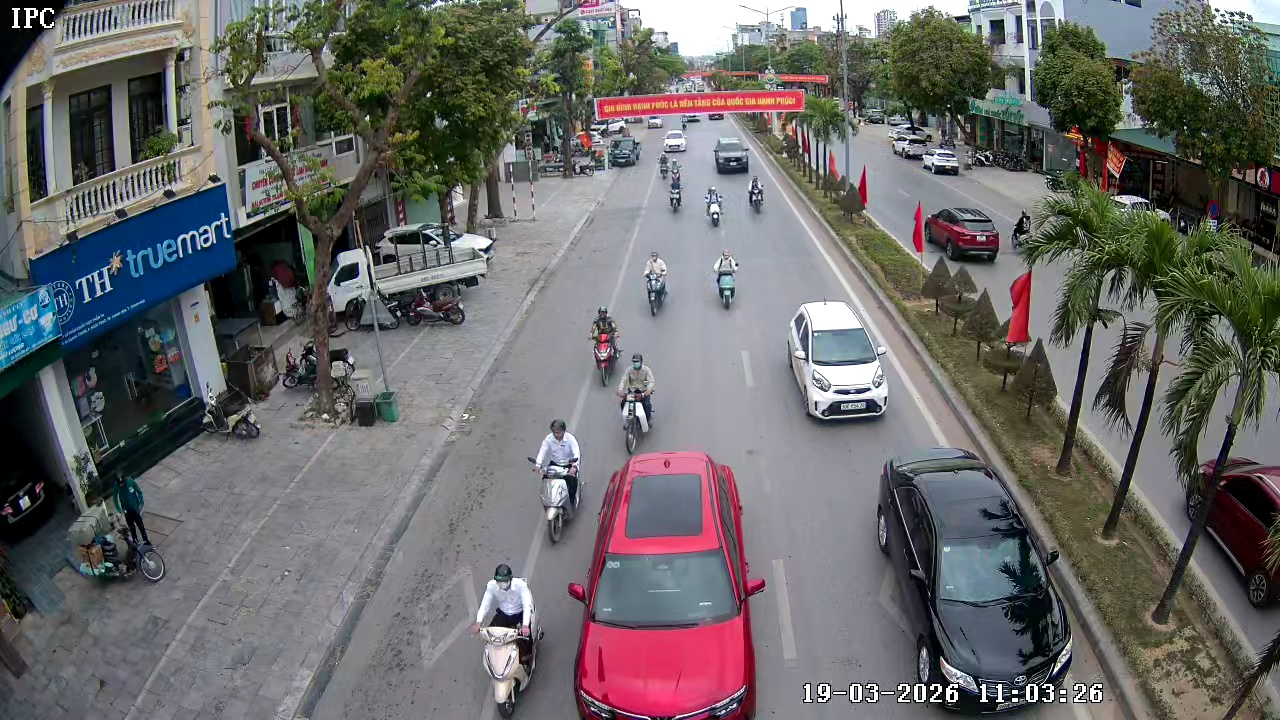car: (874, 447, 1081, 712), (567, 450, 768, 719), (1199, 353, 1279, 610), (786, 300, 889, 421), (922, 204, 1001, 263), (711, 135, 752, 175), (921, 144, 962, 175), (660, 126, 687, 151)
motorbike: (472, 560, 547, 719), (530, 418, 586, 545), (617, 353, 659, 454), (588, 304, 623, 388), (642, 249, 671, 318), (712, 248, 740, 311), (704, 185, 725, 228), (747, 175, 766, 214), (666, 173, 684, 213), (657, 149, 672, 181)
truck: (607, 133, 646, 166)
